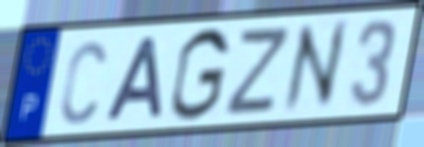3: (348, 15, 400, 112)
A: (103, 35, 165, 124)
C: (58, 37, 109, 127)
G: (167, 25, 233, 124)
N: (281, 16, 350, 118)
Z: (220, 23, 294, 118)
